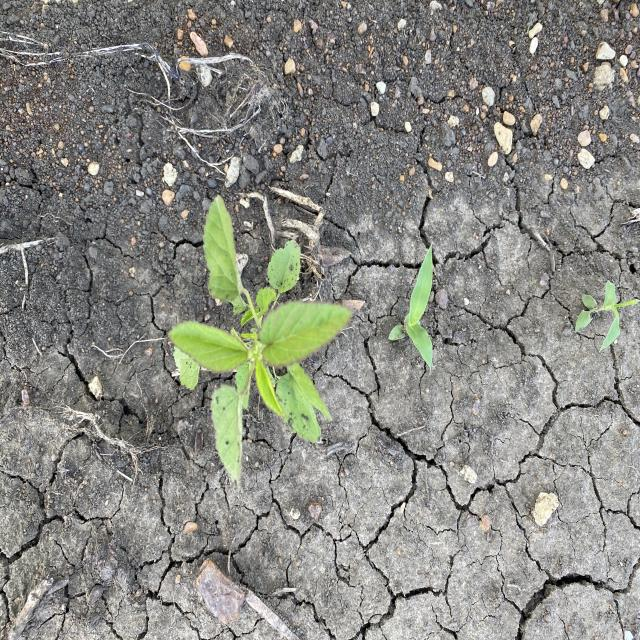PricklySida: (163, 192, 354, 490)
